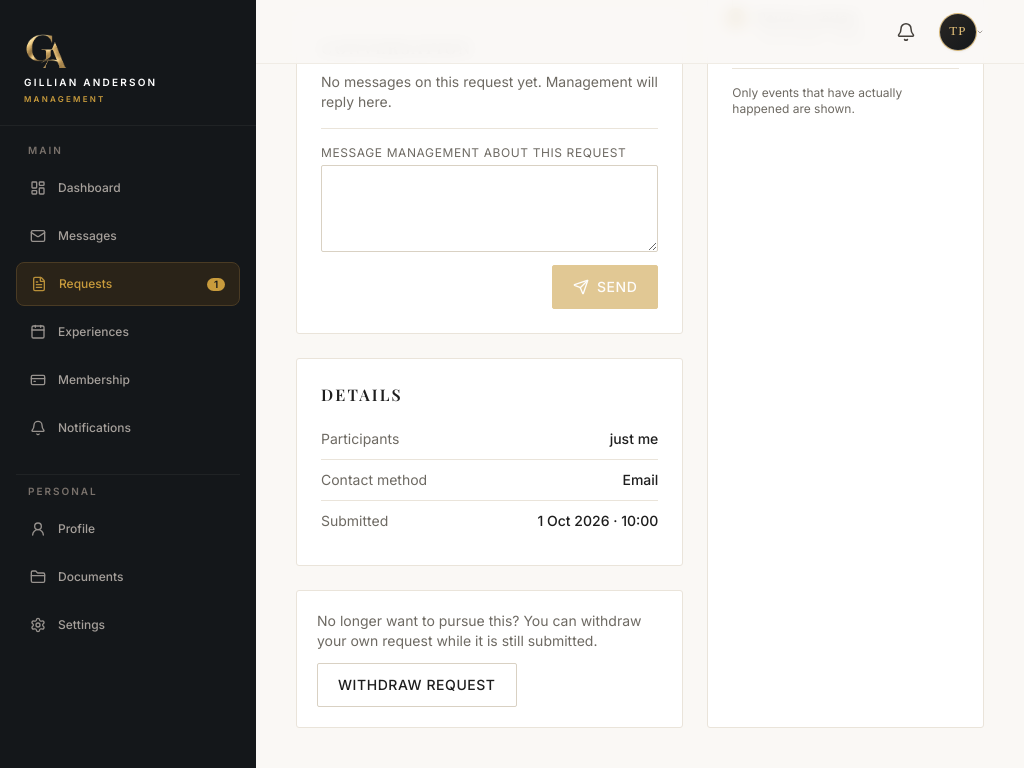
requests › allows withdrawing a submitted request
(page scrolled)
Click the button "Withdraw request" at (417,685), box [317, 663, 517, 707]
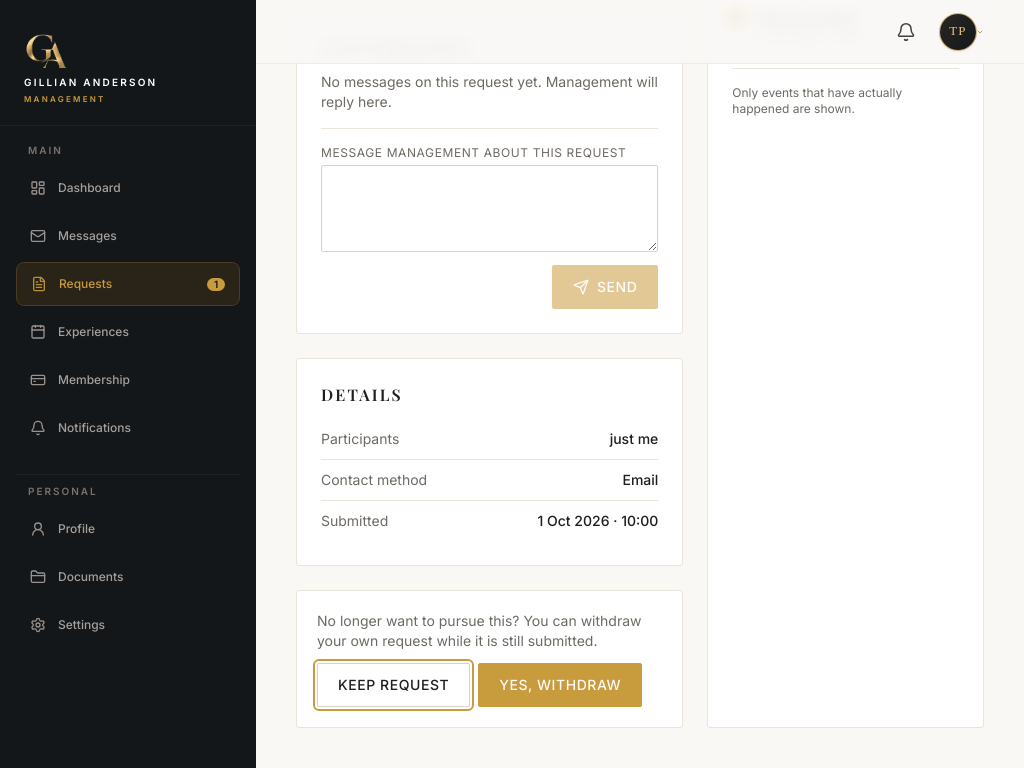
Click the button "Yes, withdraw" at (560,685), box [478, 663, 642, 707]
(page scrolled)
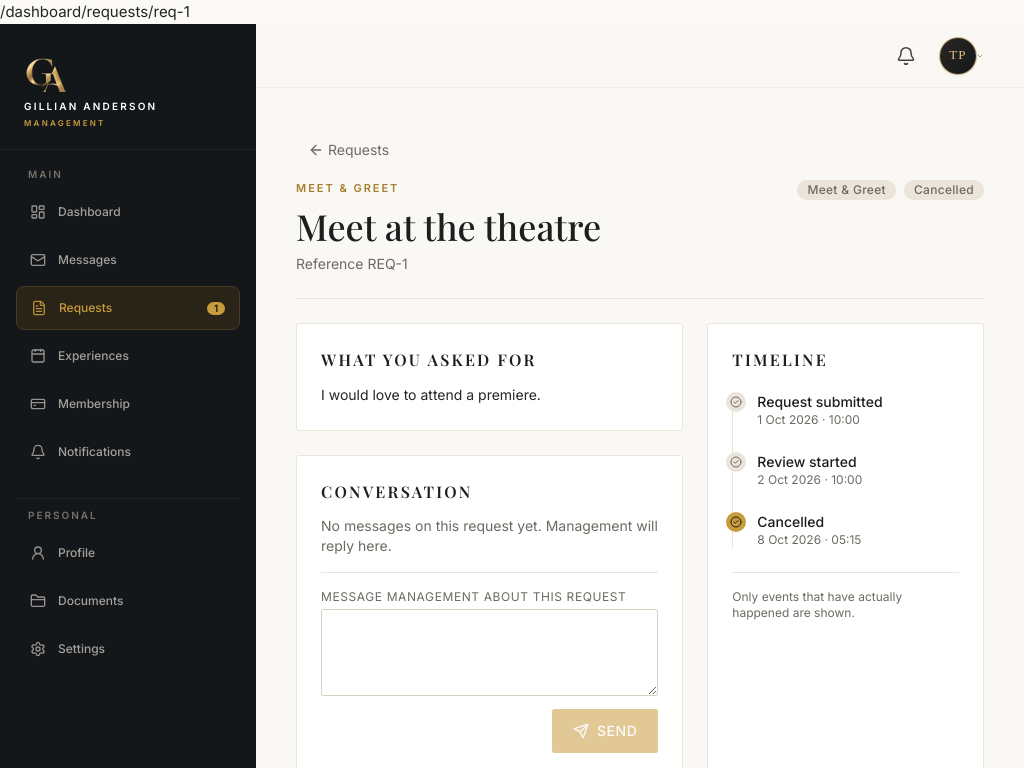
Check: the 1st text "Cancelled" is shown, box [904, 180, 984, 200]
